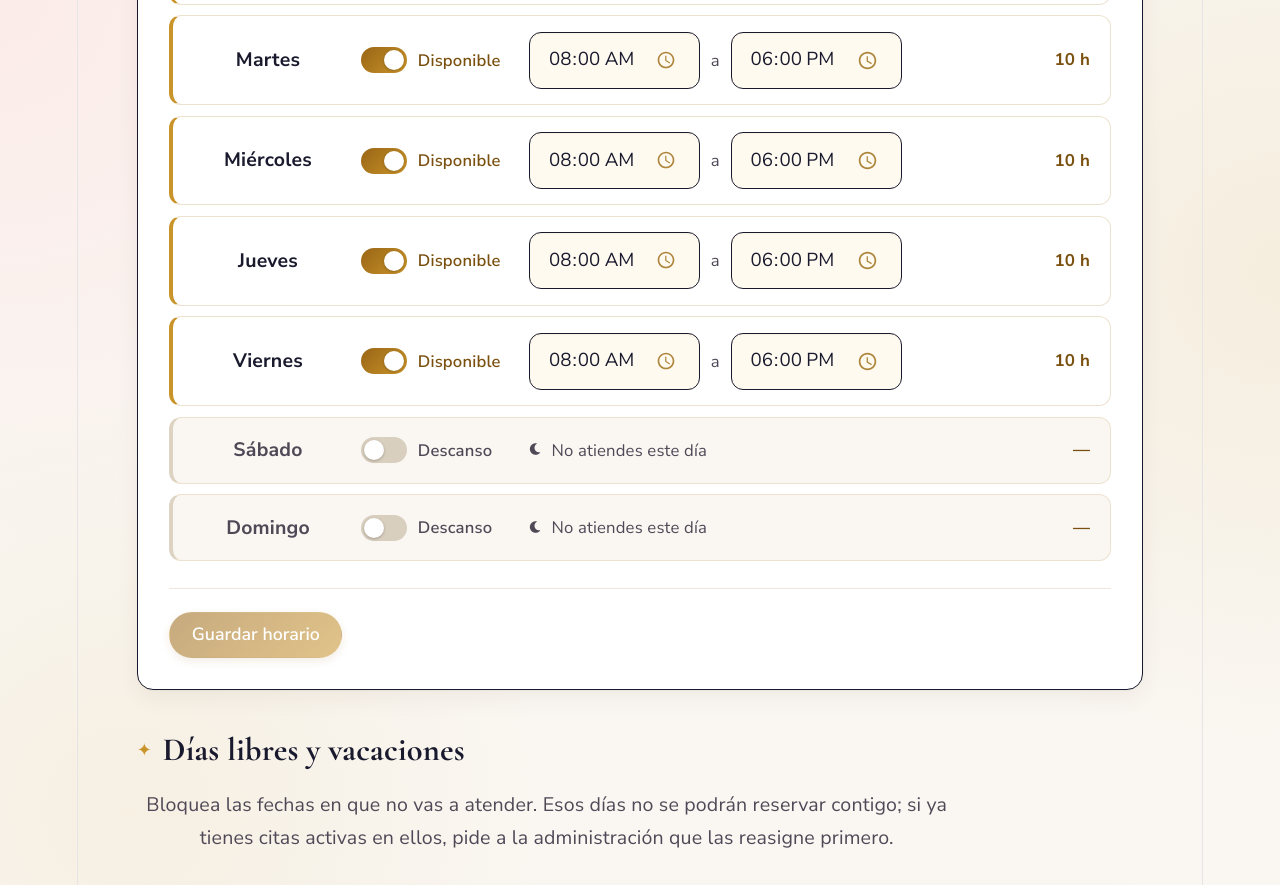
Test: StylistSchedule › muestra el error del servidor al guardar
(page scrolled)
Click the switch named "Disponible Sábado".
click(384, 450)  # box [361,437,407,463]
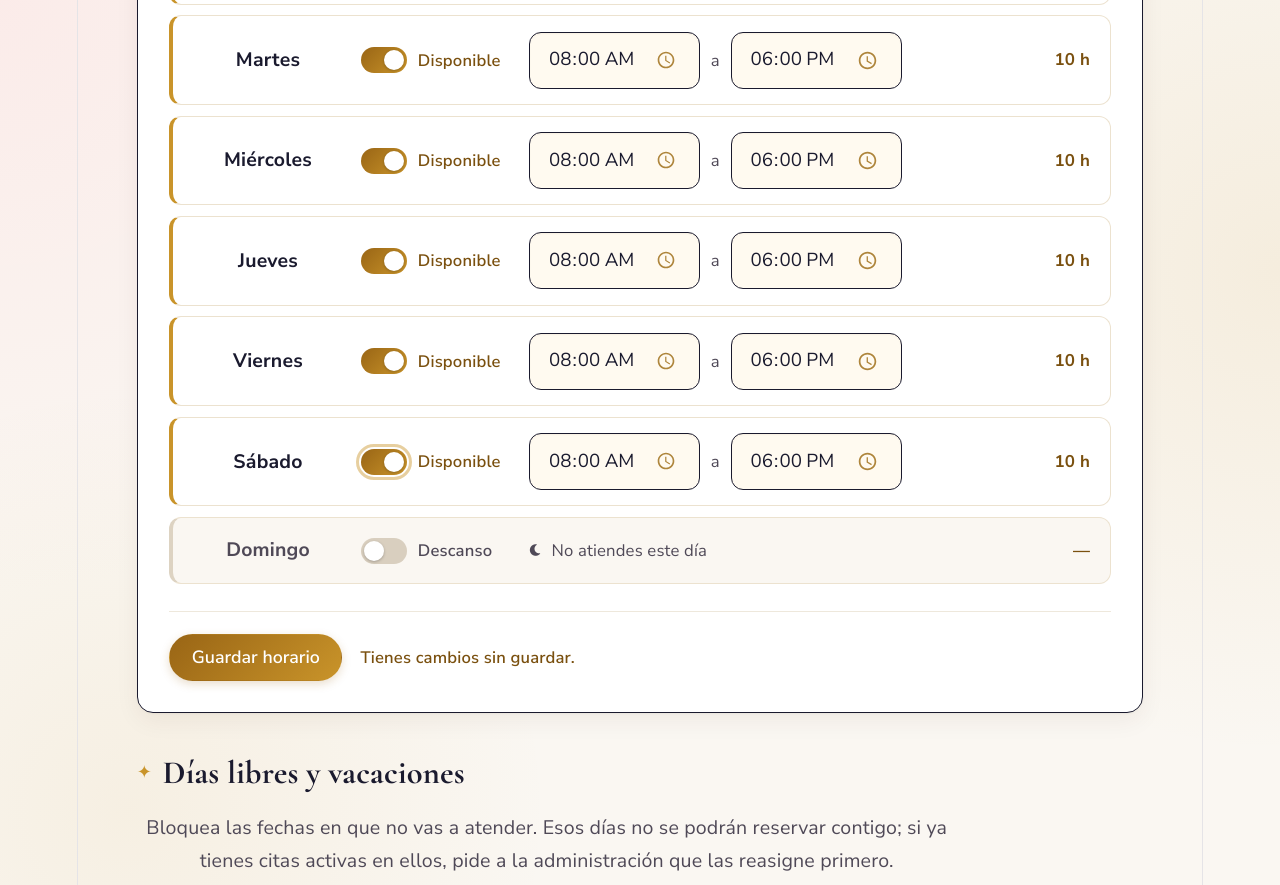
Click the button "Guardar horario".
click(256, 658)  # box [169,634,342,681]
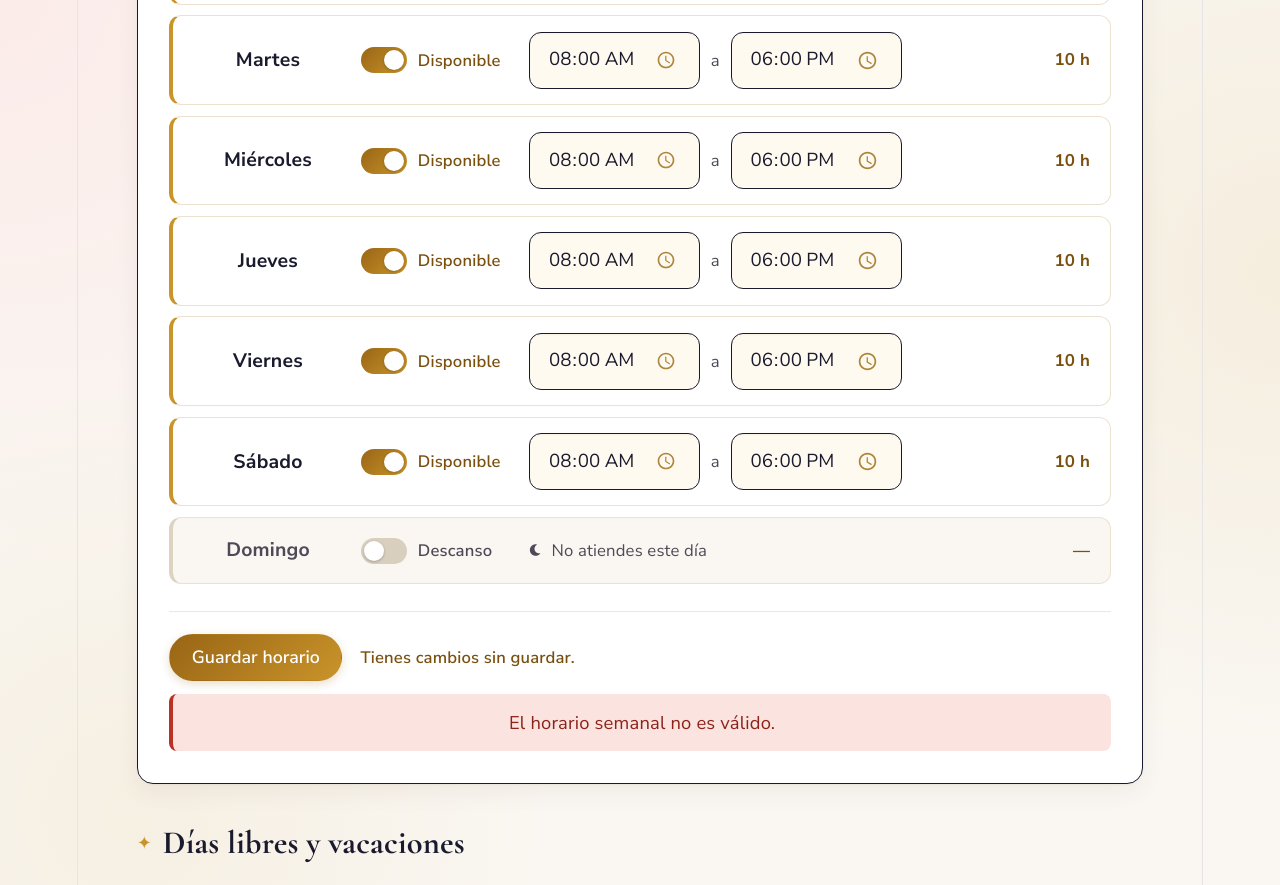
Check: the text "El horario semanal no es válido." is shown, box [169,694,1111,752]
